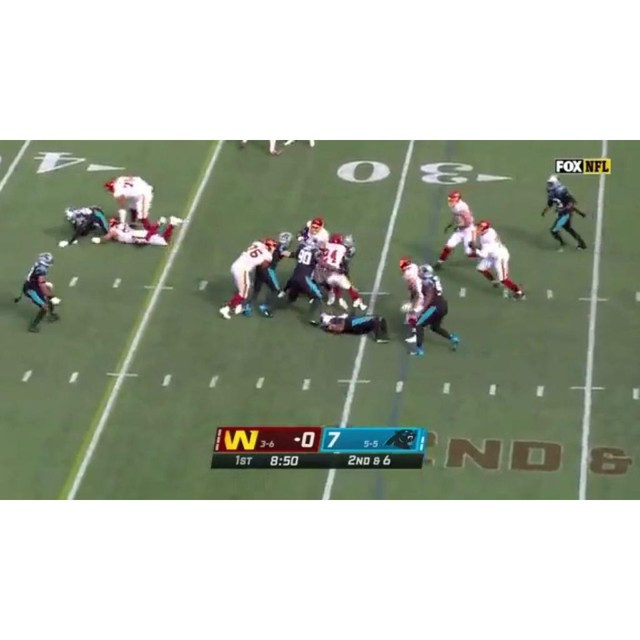american-football-player: (407, 266, 459, 357), (220, 238, 277, 319), (473, 220, 526, 301), (104, 175, 161, 239), (542, 177, 587, 251), (17, 253, 59, 331), (437, 190, 479, 268), (282, 238, 323, 316), (94, 217, 178, 247), (397, 257, 428, 338), (314, 311, 390, 341), (58, 205, 109, 248), (305, 216, 330, 247)
